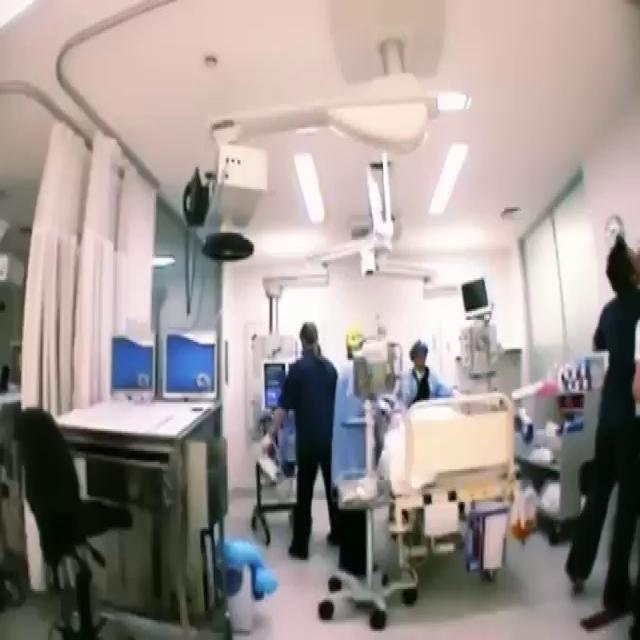doctor: (264, 320, 339, 558)
monitor: (162, 329, 218, 400), (110, 333, 155, 400), (461, 274, 489, 316), (263, 360, 286, 409)
nurse: (563, 231, 639, 616)
